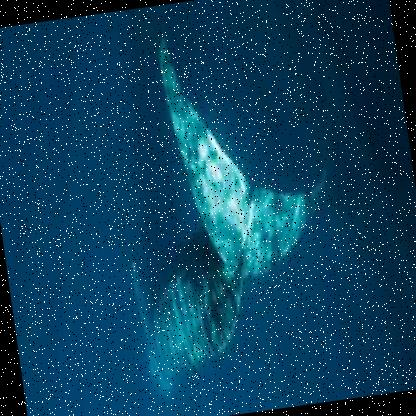blue_whale: (47, 0, 371, 415)
